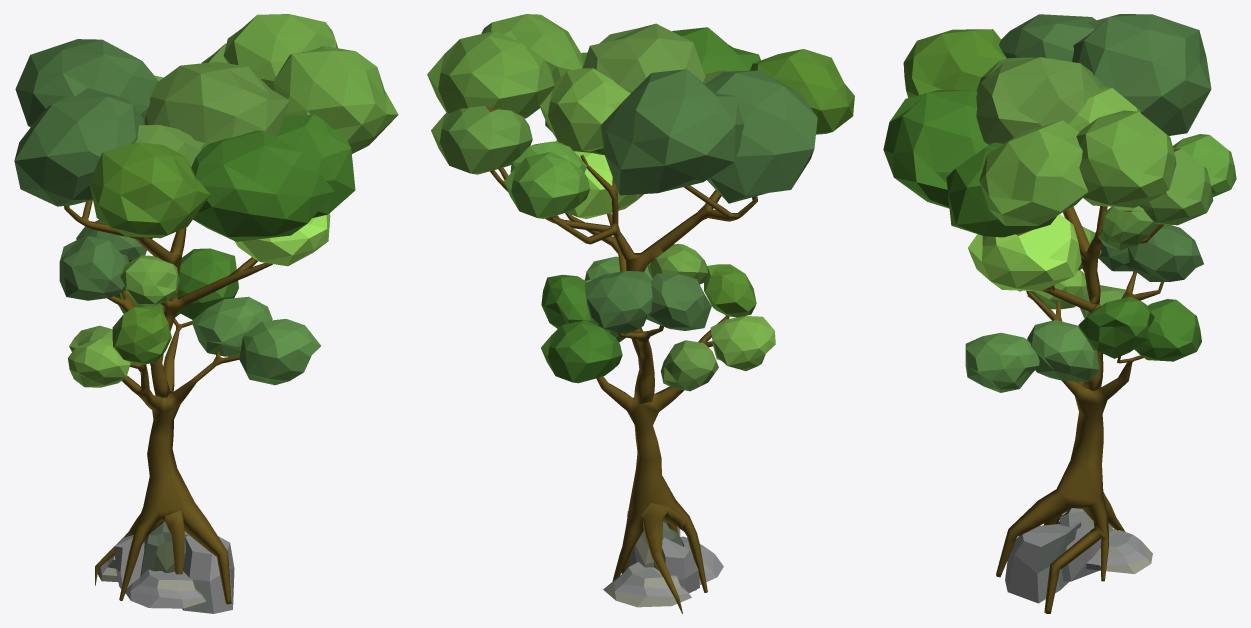
Rendered from Tree02.fbx.
The picture shows the model from 3 angles, left to right: view 1: azimuth 30°, elevation 25°; view 2: azimuth 150°, elevation 25°; view 3: azimuth 270°, elevation 25°; orthographic projection.
Visible parts, largest first — view 1: Tree02; view 2: Tree02; view 3: Tree02.
Boxes of the visible parts, x1,y1,x2,y2 form: Tree02: [14, 14, 398, 613]; Tree02: [427, 14, 854, 613]; Tree02: [883, 14, 1236, 613].
Bounding box in the file's own units: 2445 × 3680 × 2136.
